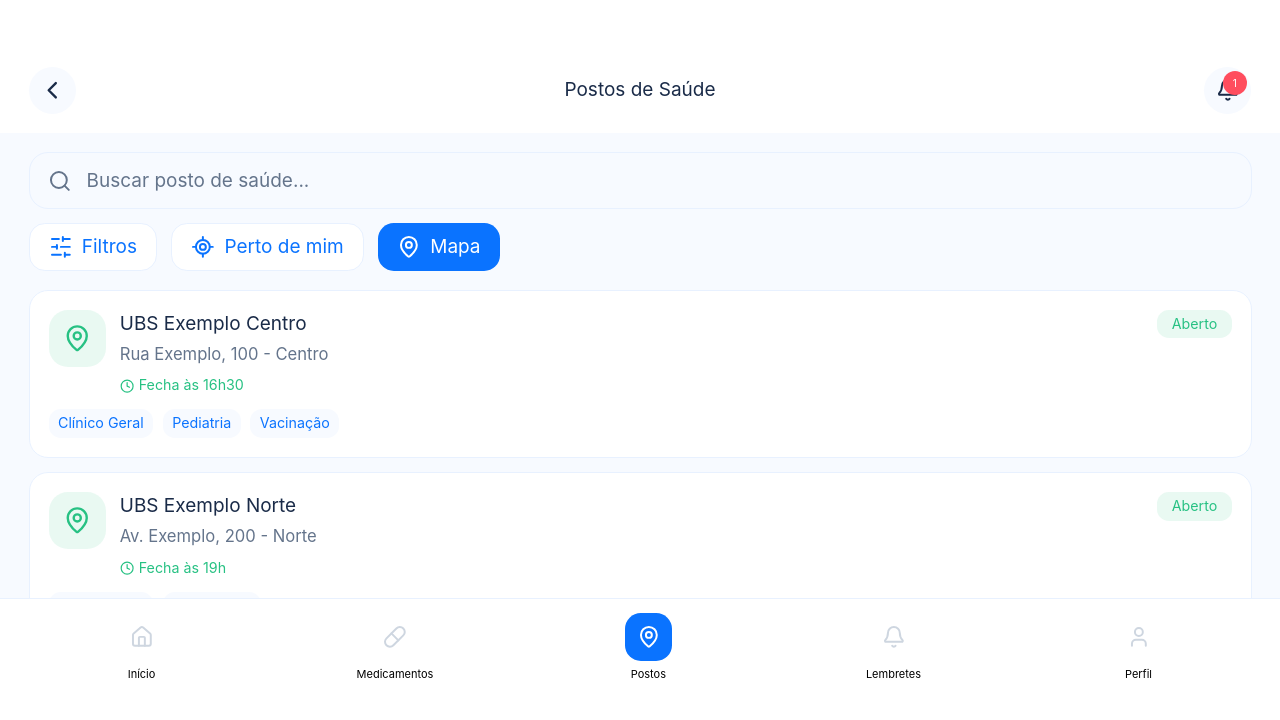
Test case: PostosList › mostra os postos e filtra pela busca
Expected: the heading "UBS Exemplo Centro" is shown, left=120, top=312, right=307, bottom=335
Expected: the heading "UBS Exemplo Norte" is shown, left=120, top=494, right=296, bottom=517
In the field with placeholder "Buscar posto de saúde...": (640, 180) left=28, top=152, right=1252, bottom=209, type "norte"
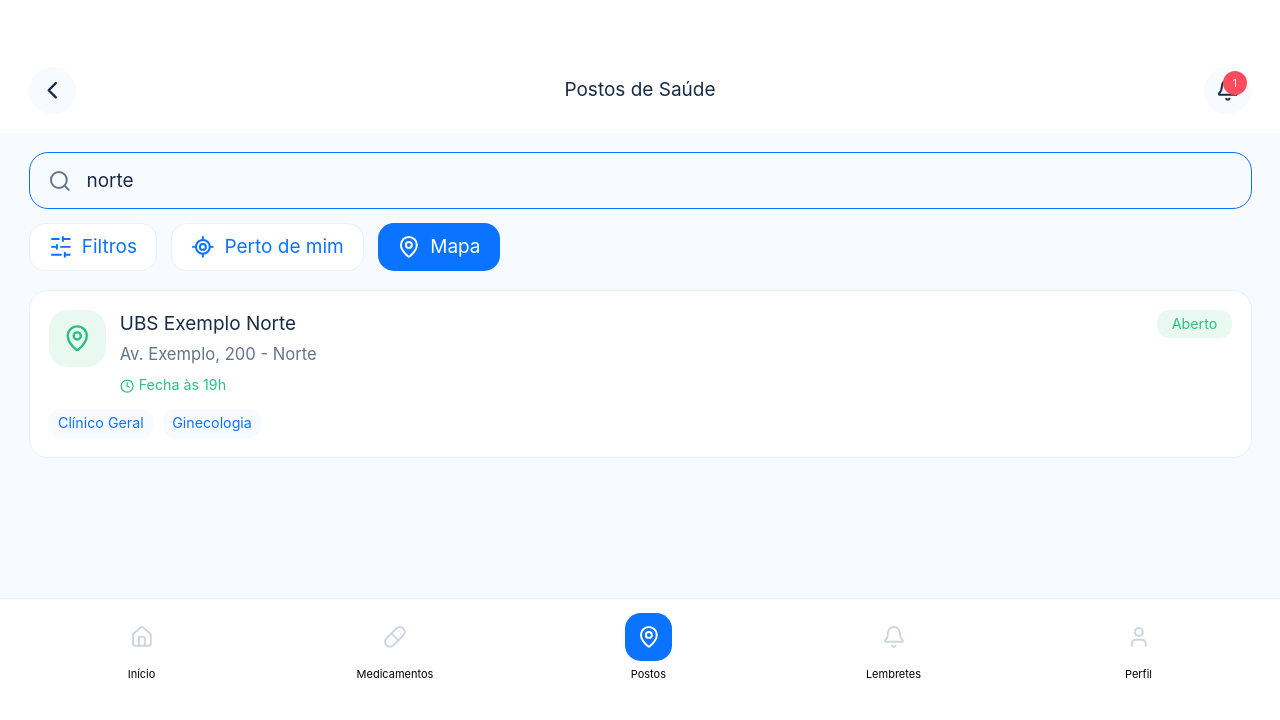
Expected: the heading "UBS Exemplo Norte" is shown, left=120, top=312, right=296, bottom=335
Expected: the button "UBS Exemplo Centro" is gone
